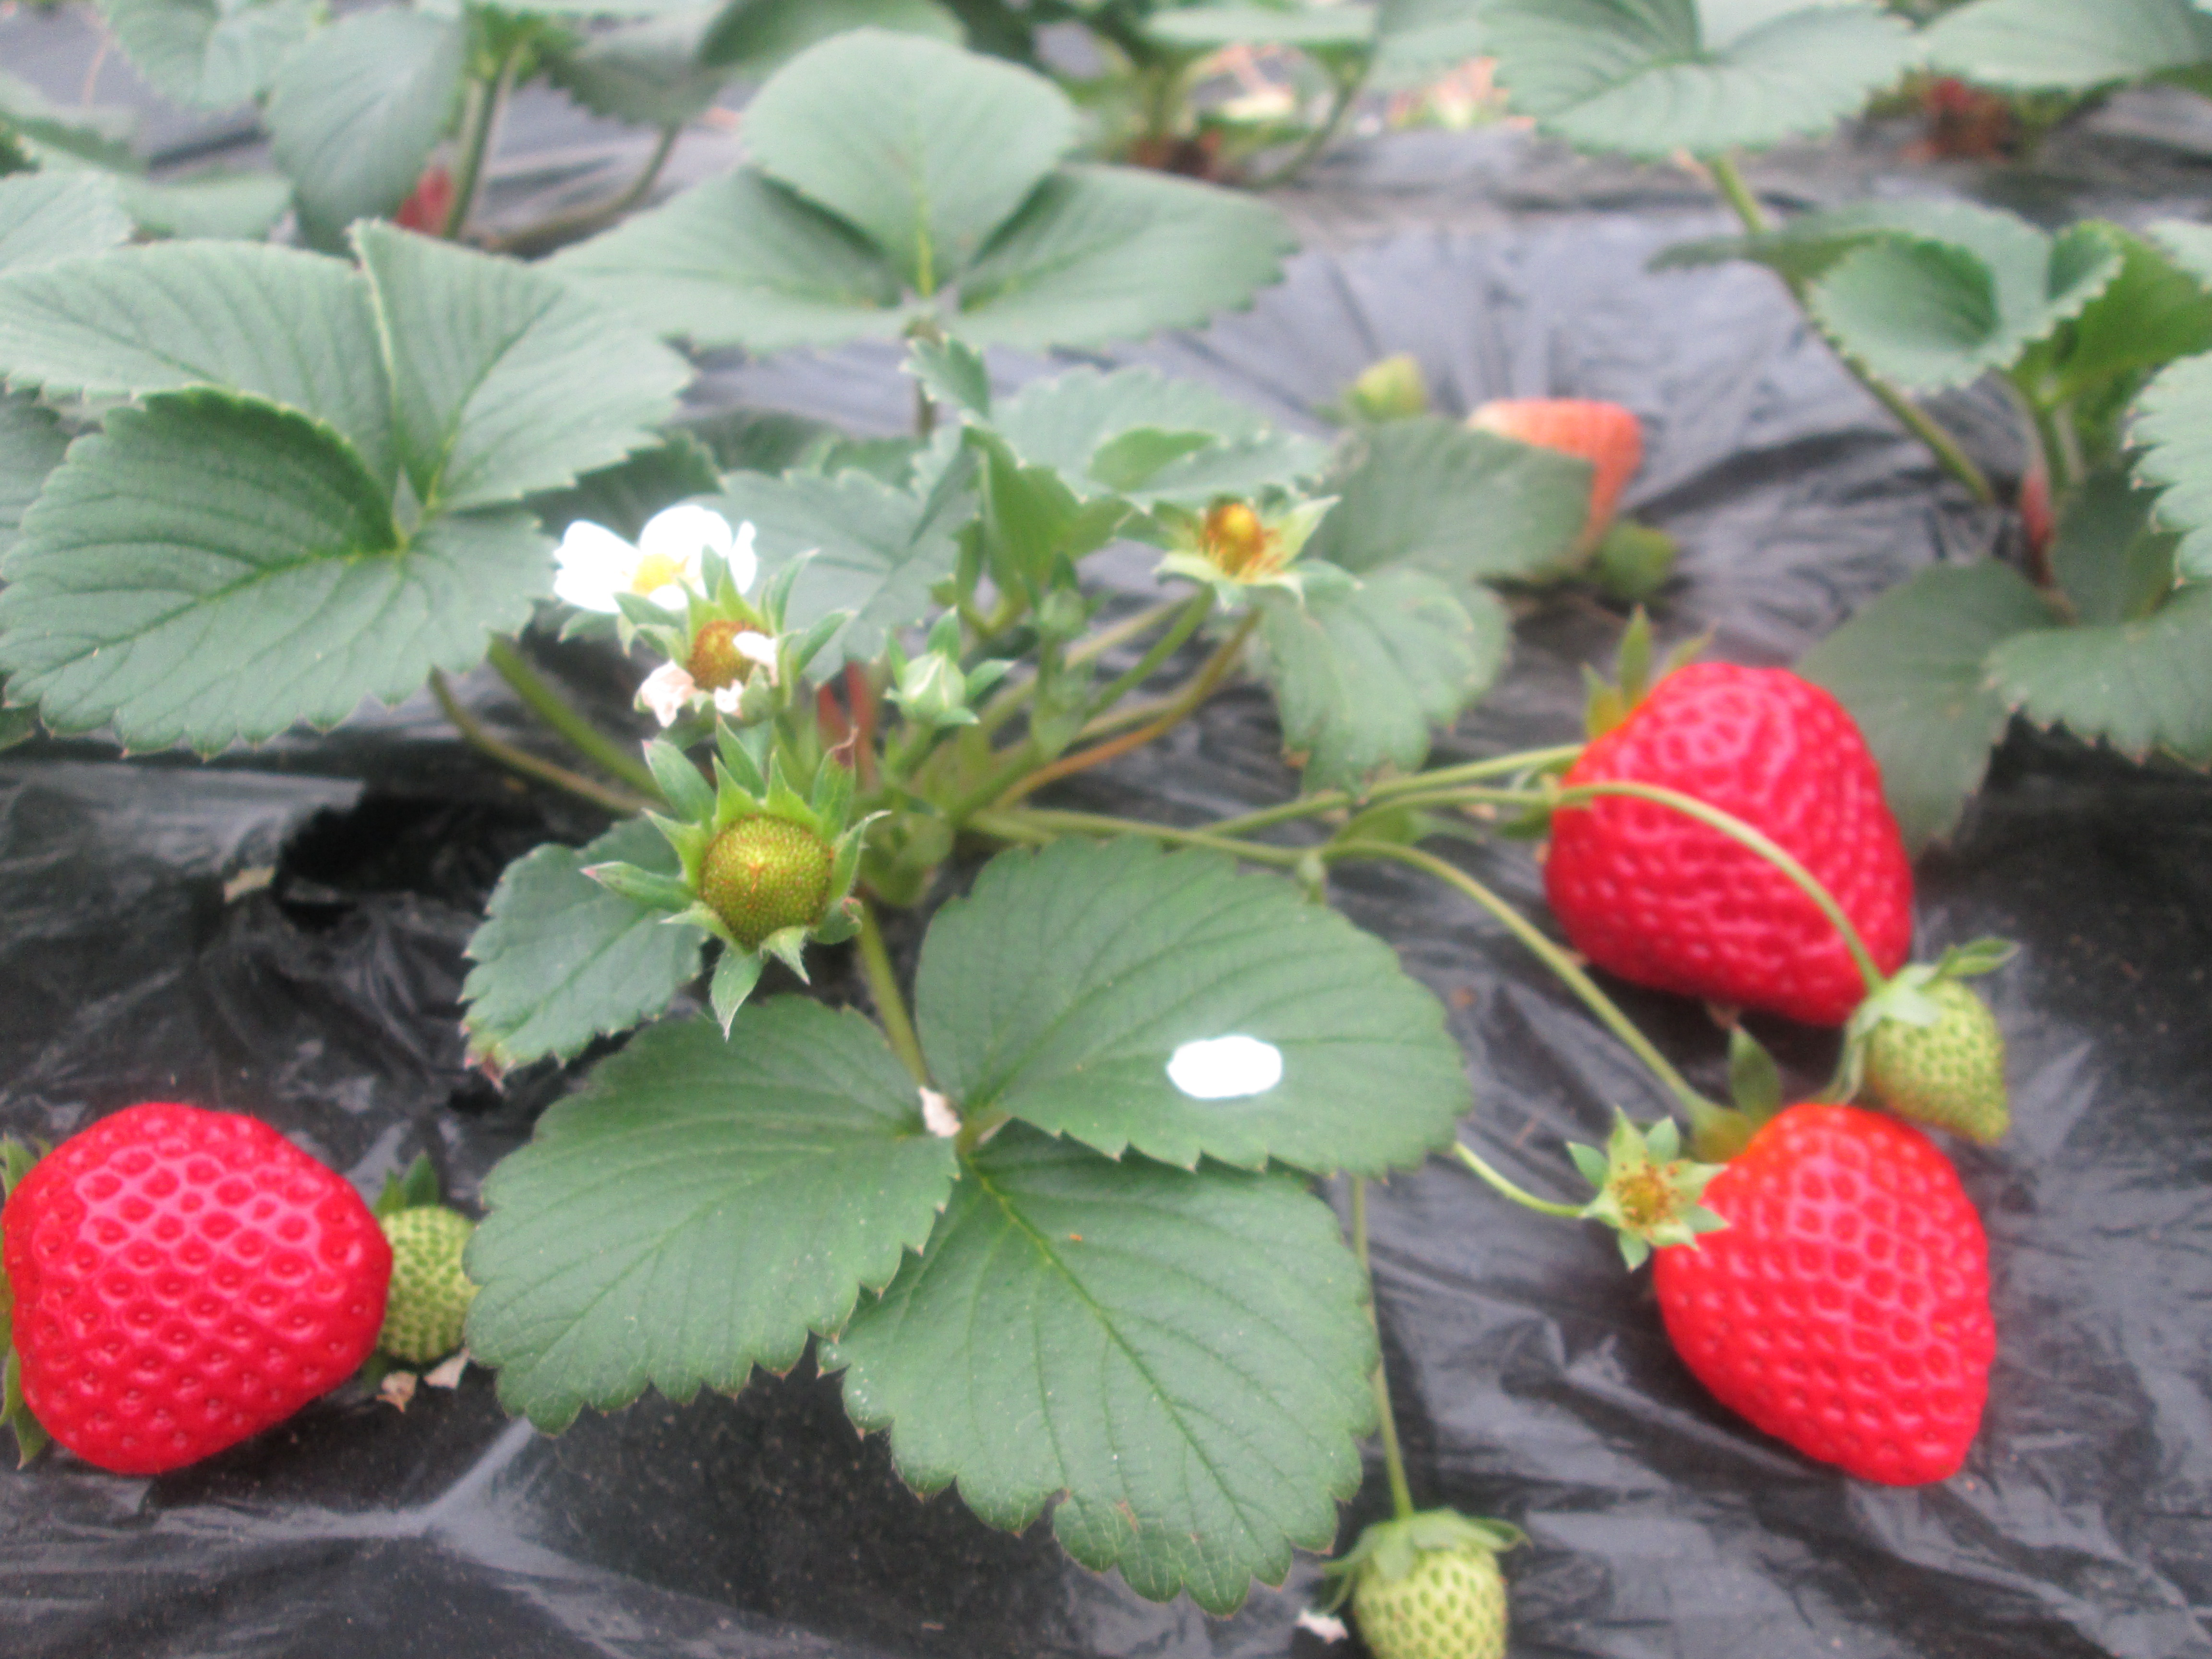StrawberryCone: (1627, 1080, 2005, 1499), (2, 1093, 392, 1492), (1534, 652, 1925, 1033)
StrawberryIrremovable: (1460, 387, 1644, 594), (1858, 955, 2013, 1150), (685, 798, 852, 960), (1338, 1516, 1529, 1657), (362, 1195, 500, 1375), (678, 608, 794, 728), (1193, 493, 1287, 589), (1599, 521, 1689, 608), (1346, 349, 1433, 416)
StrawberryRemovable: (1632, 1086, 2000, 1493), (5, 1098, 388, 1481), (1541, 652, 1919, 1025)
